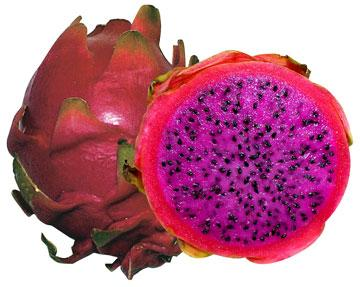dragon-fruit: (139, 48, 351, 264)
